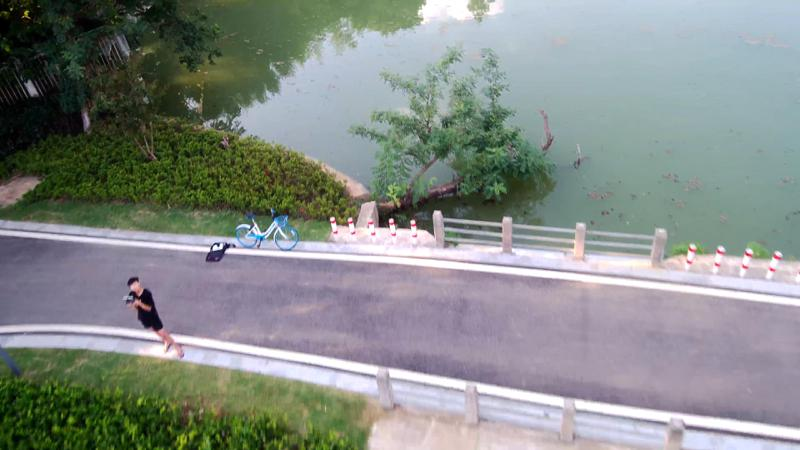passerby: (121, 275, 186, 361)
